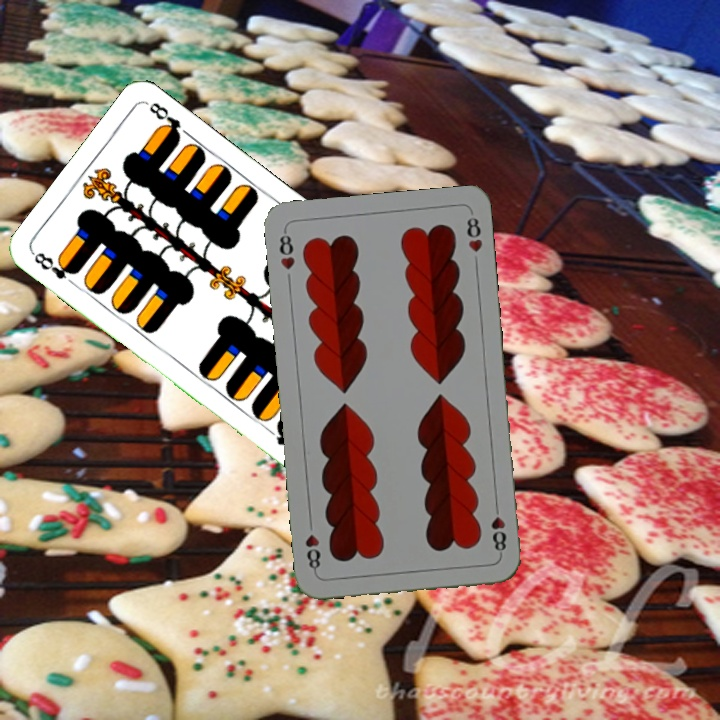E8: (29, 248, 81, 282)
H8: (487, 499, 509, 558), (275, 226, 298, 272)
